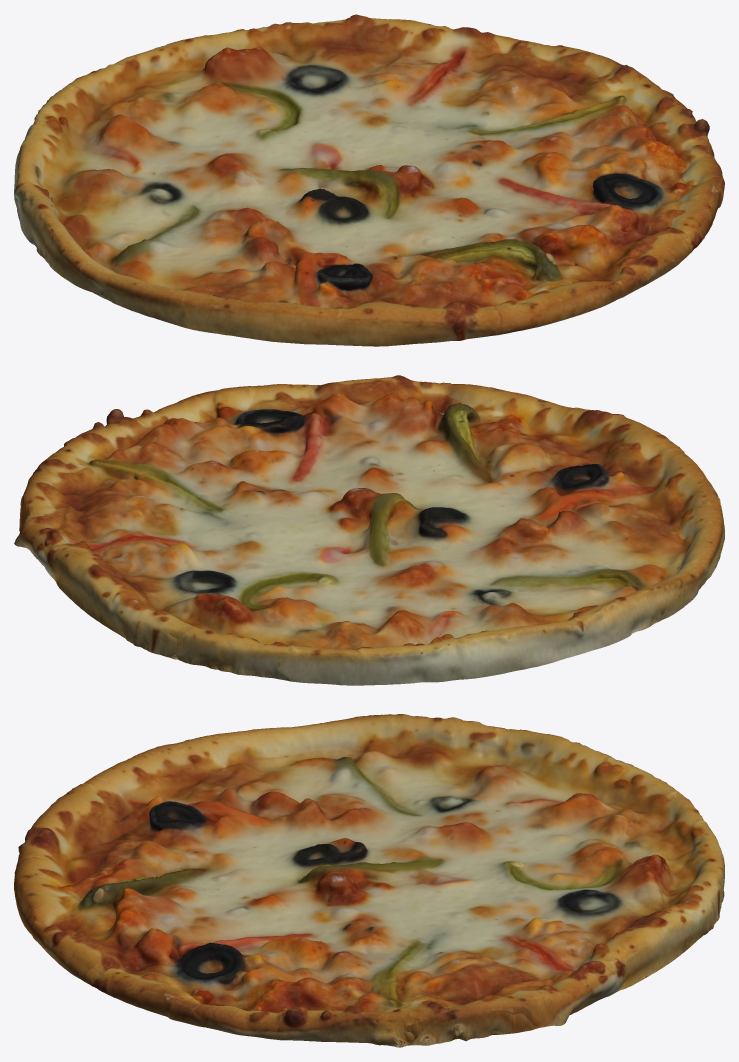
Rendered from asset.glb.
3 renders of one model, top to bottom at view 1: azimuth 30°, elevation 25°; view 2: azimuth 150°, elevation 25°; view 3: azimuth 270°, elevation 25°, orthographic.
Visible parts, largest first — view 1: 3DModel_Custom_0; view 2: 3DModel_Custom_0; view 3: 3DModel_Custom_0.
Boxes of the visible parts, left/top/right/bottom form: 3DModel_Custom_0: left=14, top=14, right=724, bottom=346; 3DModel_Custom_0: left=14, top=375, right=724, bottom=685; 3DModel_Custom_0: left=14, top=714, right=724, bottom=1047.
Bounding box in the file's own units: 0.9636 × 0.0624 × 0.9493.
1 material, 1 textured.
